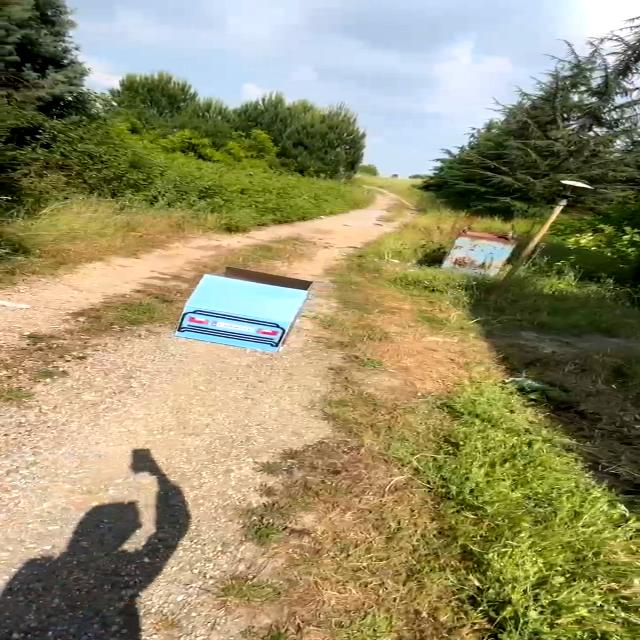blue_car: (142, 252, 339, 366)
